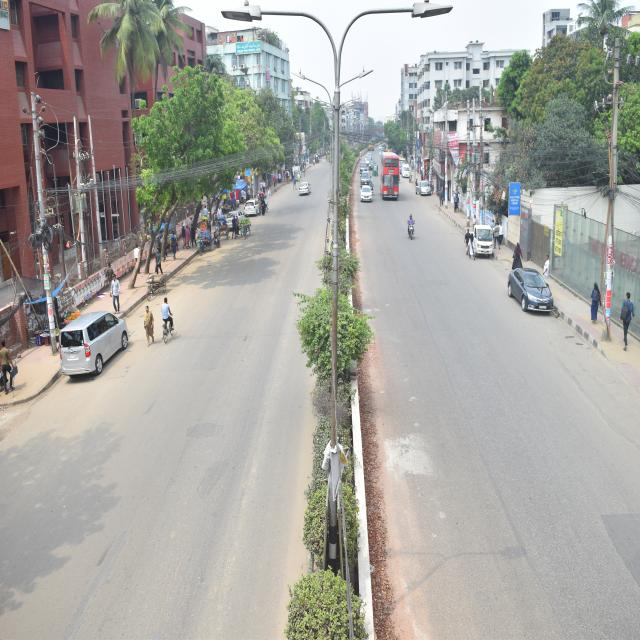bus: (382, 145, 404, 210)
car: (51, 293, 138, 382), (505, 246, 558, 328), (218, 192, 250, 252), (243, 187, 266, 228), (295, 173, 314, 211), (415, 175, 436, 200), (358, 181, 375, 207), (358, 150, 372, 177), (360, 161, 374, 187)
motorbike: (403, 199, 423, 253)
pickup-van: (460, 215, 504, 268)
